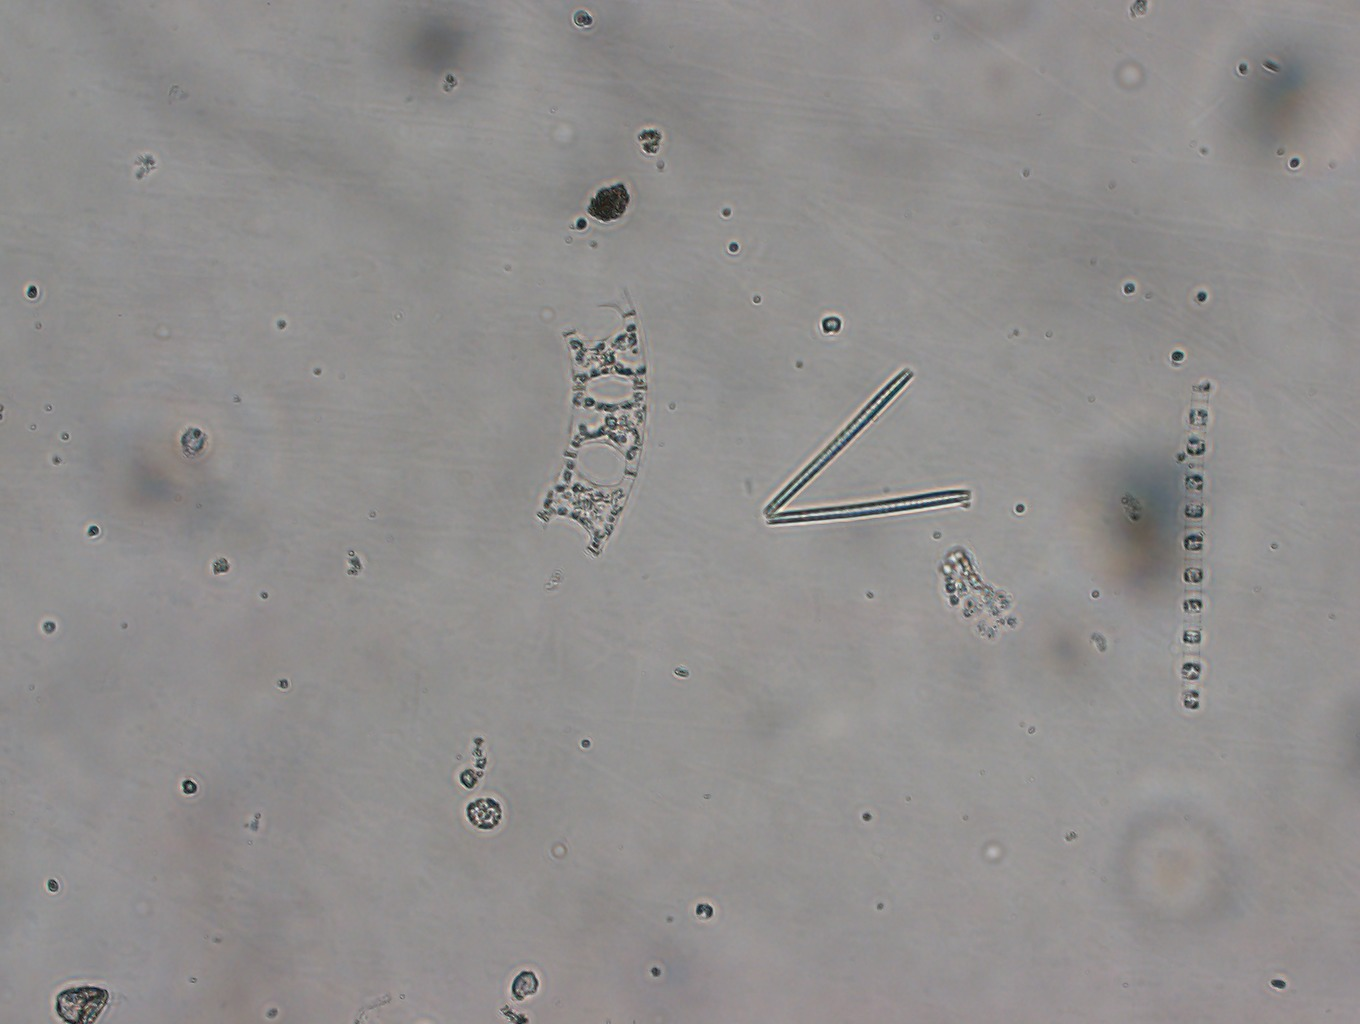eucampia: (527, 283, 652, 563)
skeletonema: (1156, 375, 1233, 729)
thalassionema nitzschioides: (751, 358, 977, 532)
